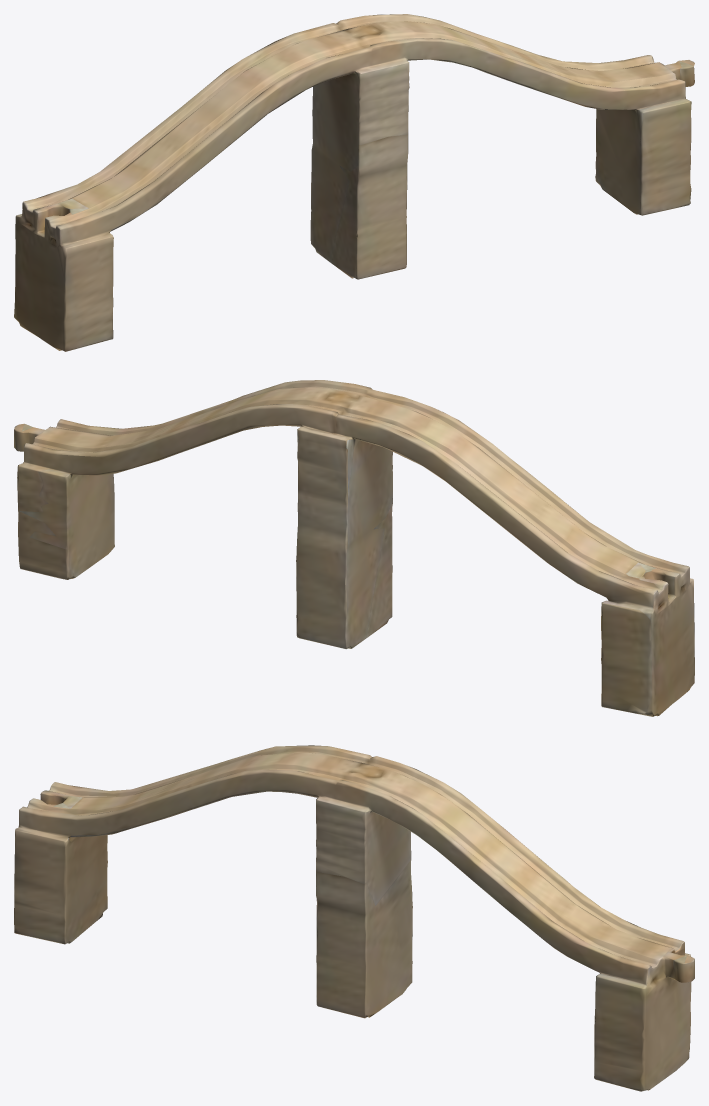
File: gso_thomas_friends_wooden_railway_ascending_track_riser_pack.glb
3 renders of one model, top to bottom at view 1: azimuth 30°, elevation 25°; view 2: azimuth 150°, elevation 25°; view 3: azimuth 330°, elevation 25°, orthographic.
Visible parts, largest first — view 1: z-up-to-y-up; view 2: z-up-to-y-up; view 3: z-up-to-y-up.
Boxes of the visible parts, x1,y1,x2,y2 form: z-up-to-y-up: (14, 14, 694, 351); z-up-to-y-up: (14, 380, 694, 716); z-up-to-y-up: (14, 745, 694, 1091).
Bounding box in the file's own units: 0.4253 × 0.1429 × 0.0579.
1 material, 1 textured.
